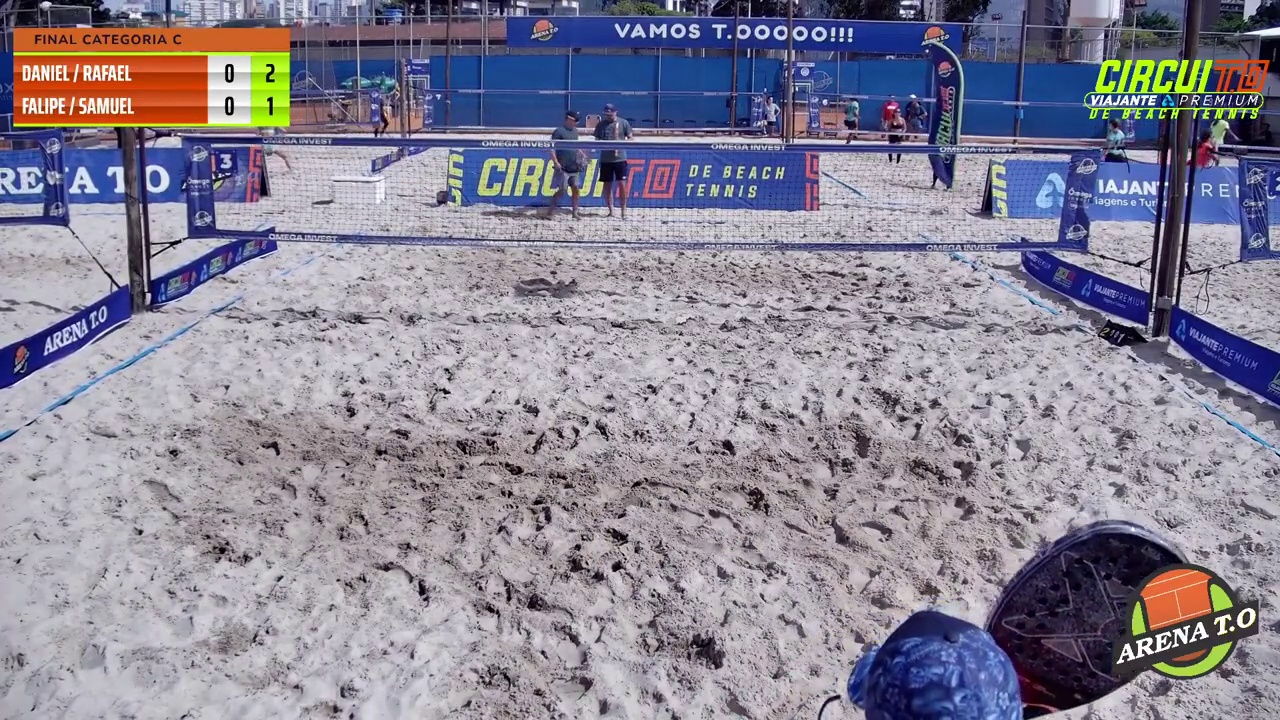court_line: (635, 0, 803, 343)
